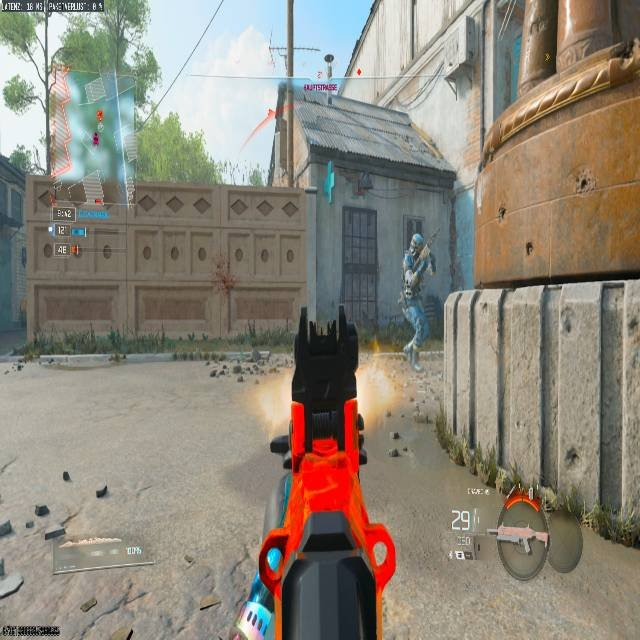head: (411, 233, 424, 250)
player: (401, 233, 436, 372)
